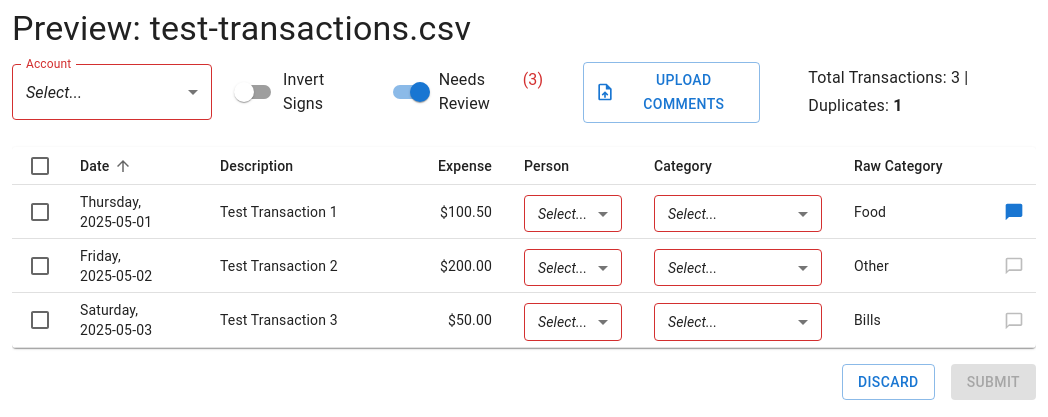
Test: PreviewPage › performs shift-click to select a range
Expected: the text "Test Transaction 1" is shown, [204,185,396,239]
Click row 1
Click the text "Test Transaction 1": (524, 212) [12,185,1036,239]
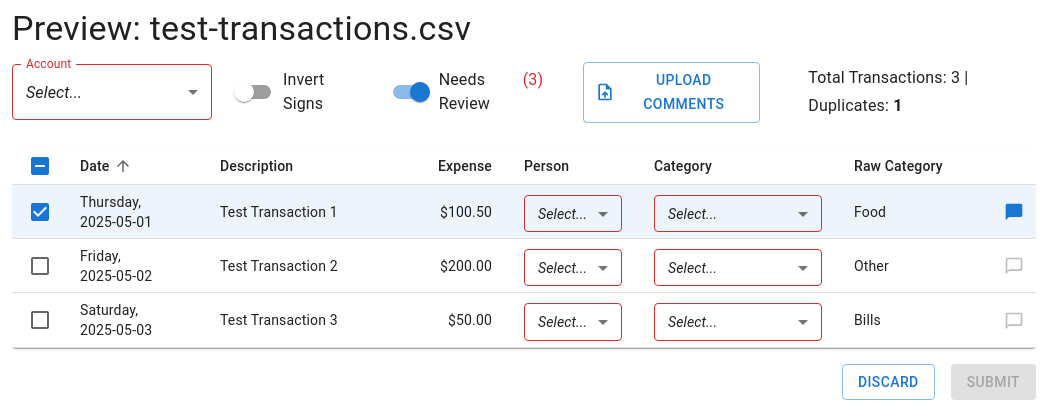
Expected: the 2nd checkbox is checked, [28,200,52,224]
Shift-click row 3
Click the text "Test Transaction 3": (524, 320) [12,293,1036,348]
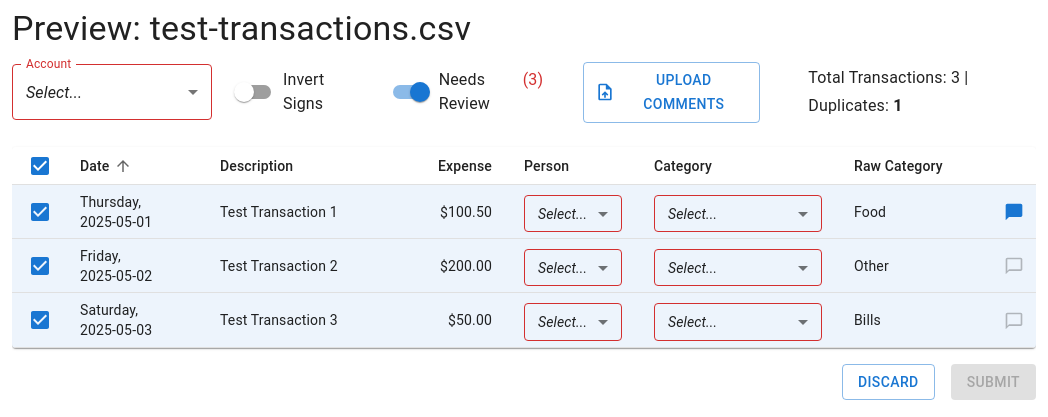
Expected: the 2nd checkbox is checked, [28,200,52,224]
Expected: the 4th checkbox is checked, [28,308,52,332]
Expected: the 3rd checkbox is checked, [28,254,52,278]
